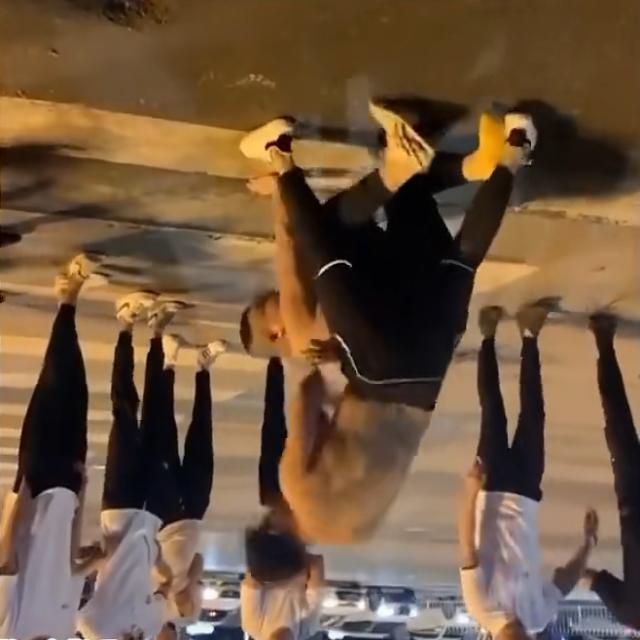fight: (228, 174, 476, 576)
nofight: (2, 253, 118, 640), (460, 299, 588, 640), (78, 291, 192, 640)
